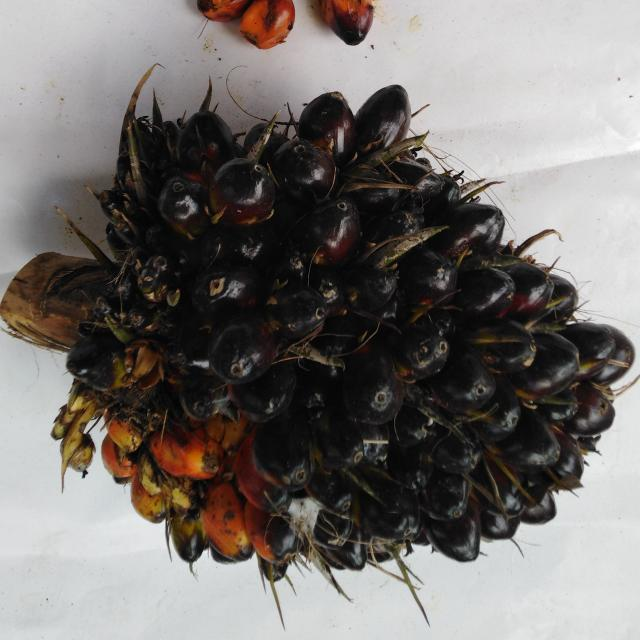FFB: (85, 109, 627, 570)
